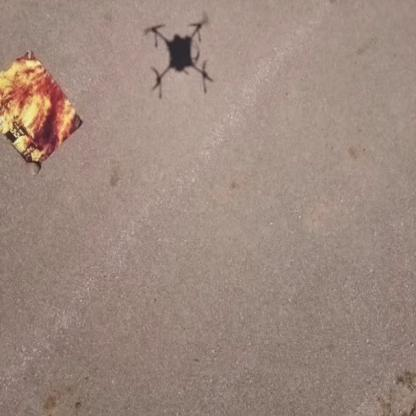fire-poster: (0, 48, 84, 175)
